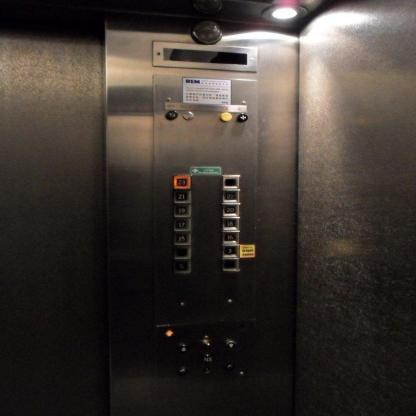15: (172, 231, 191, 245)
16: (221, 230, 240, 244)
17: (172, 217, 190, 230)
18: (221, 216, 240, 231)
19: (172, 202, 191, 217)
20: (221, 203, 240, 217)
21: (172, 188, 190, 202)
22: (221, 189, 240, 203)
23: (172, 174, 191, 188)
3: (220, 244, 238, 257)
G: (172, 258, 191, 274)
close: (235, 112, 249, 122)
down: (224, 340, 236, 350)
empty: (220, 174, 239, 189), (220, 257, 238, 272), (172, 245, 190, 258), (218, 111, 233, 122), (181, 110, 194, 121)
led: (162, 47, 248, 66)
open: (163, 110, 178, 120)
up: (150, 322, 188, 344), (176, 343, 190, 354)
